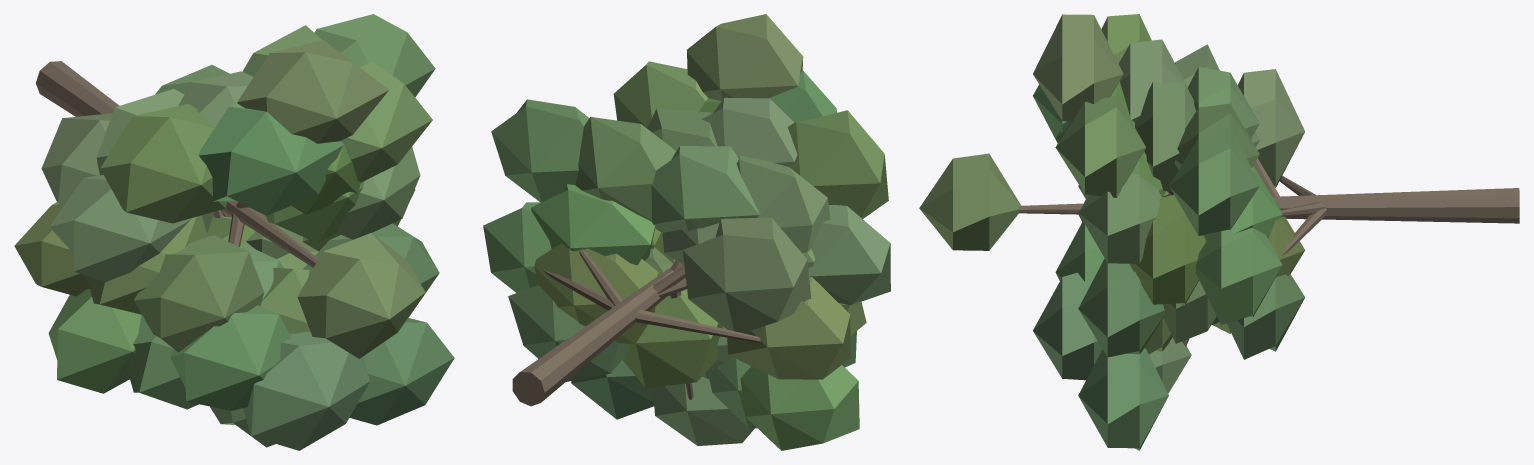
Rendered from tree-camphor.glb.
3 views of the same model, side by side, from view 1: azimuth 30°, elevation 25°; view 2: azimuth 150°, elevation 25°; view 3: azimuth 270°, elevation 25° (orthographic). The views are drawn at different scales.
Visible parts, largest first — view 1: stem; view 2: stem; view 3: stem.
Boxes of the visible parts, left/top/right/bottom form: stem: left=14, top=14, right=454, bottom=450; stem: left=483, top=14, right=890, bottom=450; stem: left=919, top=14, right=1519, bottom=450.
Bounding box in the file's own units: 6.36 × 6.56 × 9.26.
